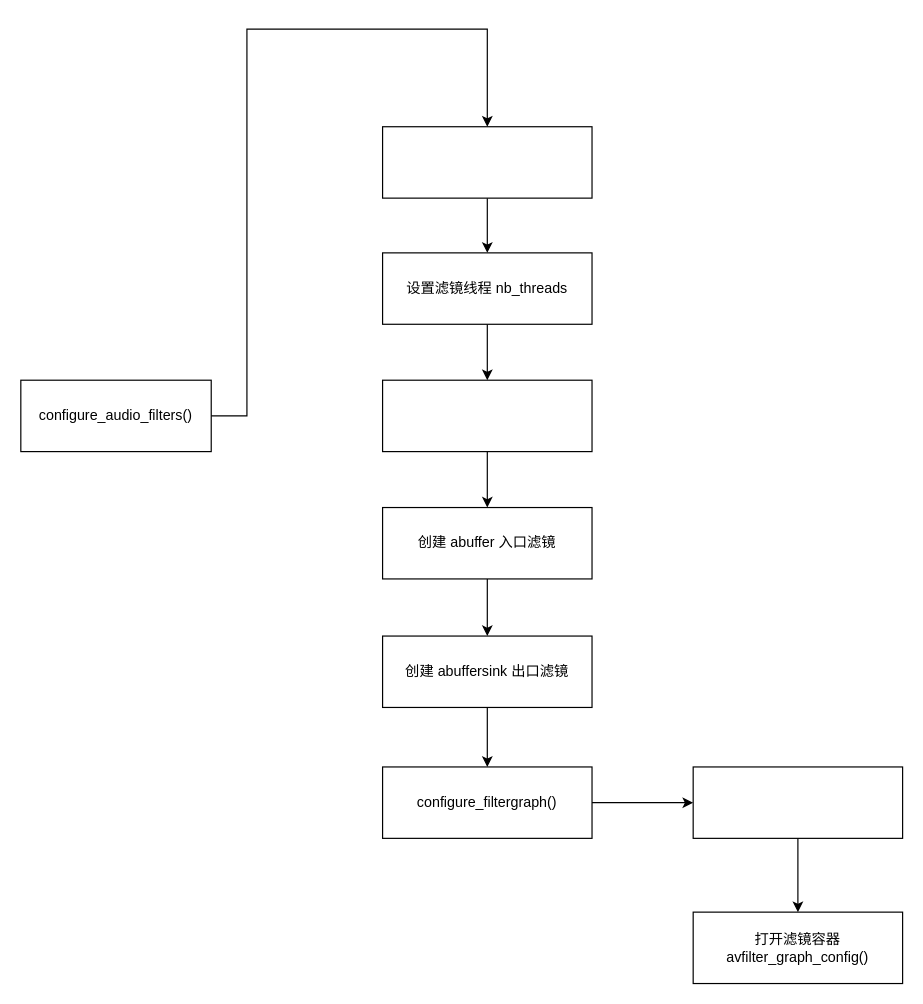
The diagram is 923 pixels wide and 1004 high, and some of its shapes have lost their labels. The centre of each missing label's shape, as x and y in pixels:
avfilter_graph_free(): the point at 486,162
设置 aresample_swr_opts: the point at 486,415
链接入口与出口滤镜 avfilter_link(): the point at 797,802
